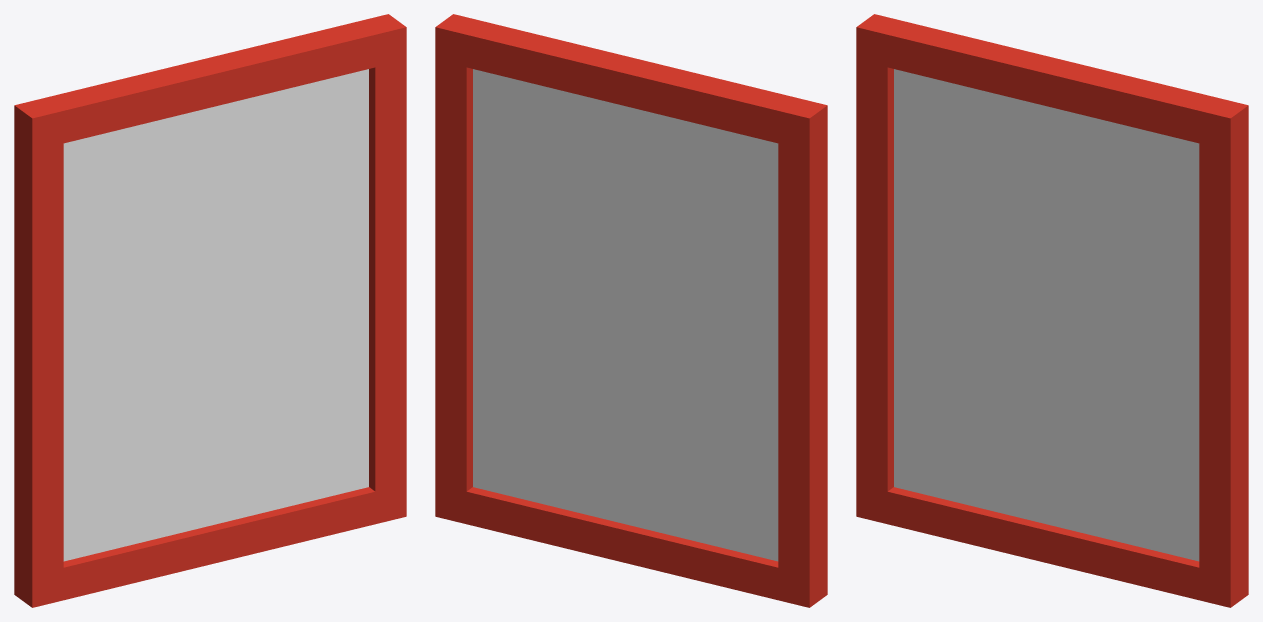
The model's file is window120120.gltf.
The picture shows the model from 3 angles, left to right: view 1: azimuth 30°, elevation 25°; view 2: azimuth 150°, elevation 25°; view 3: azimuth 330°, elevation 25°; orthographic projection.
Visible parts, largest first — view 1: Cube.001, Cube; view 2: Cube.001, Cube; view 3: Cube.001, Cube.
Part boxes in pixels (<box>): Cube.001: <box>63,69,368,561</box>; Cube: <box>14,14,406,607</box>; Cube.001: <box>473,69,778,561</box>; Cube: <box>435,14,827,607</box>; Cube.001: <box>894,69,1199,561</box>; Cube: <box>856,14,1248,607</box>.
Bounding box in the file's own units: 1.2 × 1.5 × 0.1.
